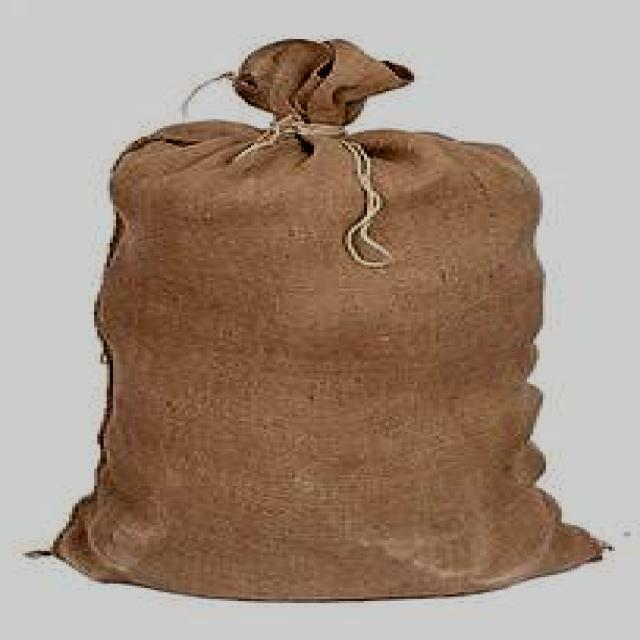gunny_bag: (30, 34, 611, 606)
